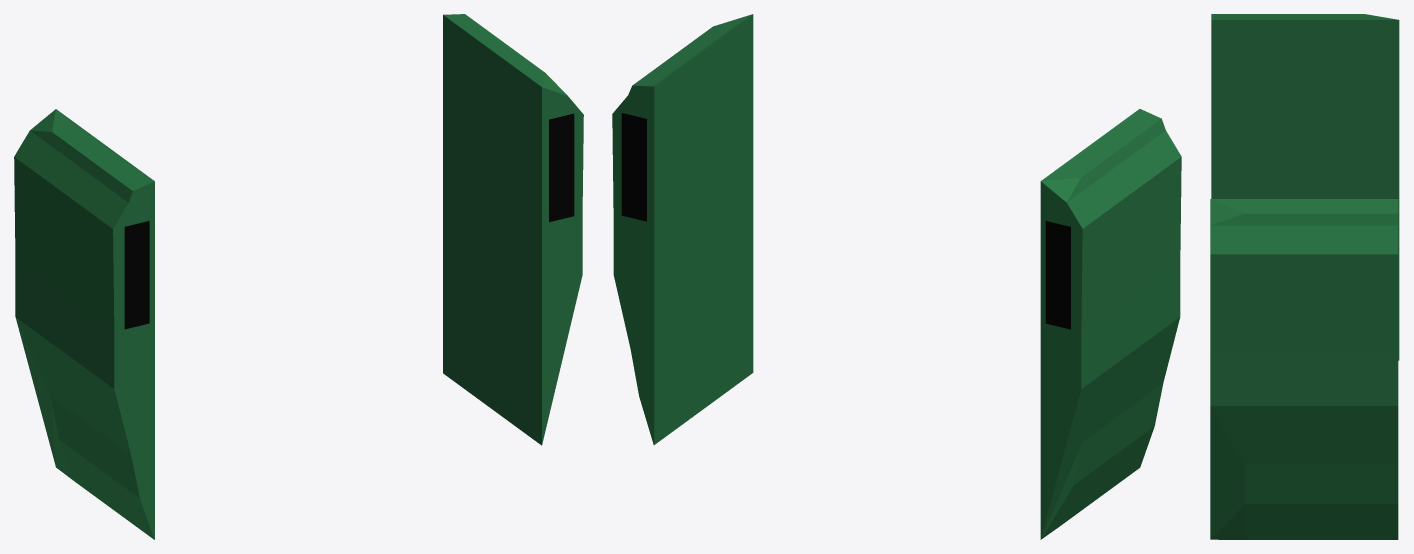
File: ng-duckets.dae
3 renders of one model, left to right at view 1: azimuth 30°, elevation 25°; view 2: azimuth 150°, elevation 25°; view 3: azimuth 270°, elevation 25°, orthographic. The views are drawn at different scales.
Parts seen in each view (by area): view 1: Cube_029, Cube_020, Plane_016, Plane_349; view 2: Cube_029, Cube_020, Plane_348, Plane_019; view 3: Cube_029, Cube_020.
Part boxes in pixels (x1,y1,x2,y2): Cube_029: (443, 14, 583, 445); Cube_020: (14, 109, 154, 539); Plane_016: (124, 221, 149, 329); Plane_349: (549, 113, 574, 222); Cube_029: (612, 14, 753, 444); Cube_020: (1040, 109, 1181, 539); Plane_348: (621, 113, 646, 221); Plane_019: (1045, 221, 1070, 329); Cube_029: (1210, 199, 1398, 539); Cube_020: (1211, 14, 1399, 360).
Bounding box in the file's own units: 1.43 × 0.527 × 1.04.
